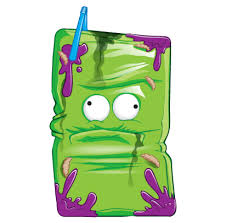Juice_Box: (52, 14, 177, 218)
